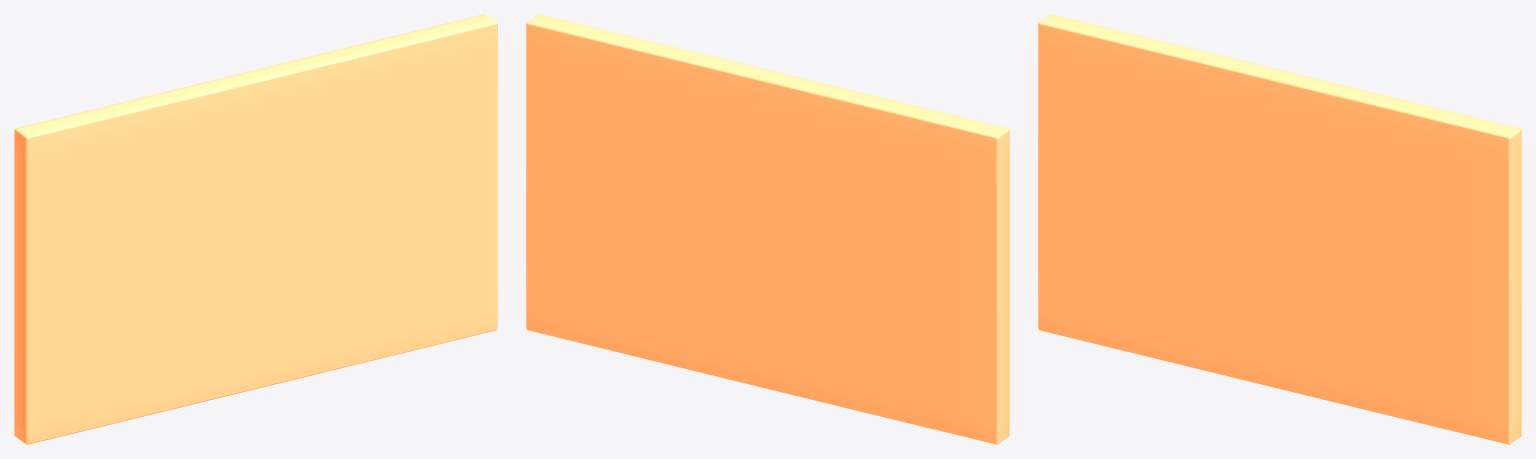
The model's file is SM_Wall_NavigationBack.fbx.
3 views of the same model, side by side, from view 1: azimuth 30°, elevation 25°; view 2: azimuth 150°, elevation 25°; view 3: azimuth 330°, elevation 25° (orthographic).
Visible parts, largest first — view 1: SM_Wall_NavigationBack_LOD0; view 2: SM_Wall_NavigationBack_LOD0; view 3: SM_Wall_NavigationBack_LOD0.
Part boxes in pixels (left/top/right/bottom): SM_Wall_NavigationBack_LOD0: left=14, top=14, right=497, bottom=444; SM_Wall_NavigationBack_LOD0: left=526, top=14, right=1009, bottom=444; SM_Wall_NavigationBack_LOD0: left=1038, top=14, right=1521, bottom=444.
Size of the model in its own units: 400 by 19.92 by 250.
